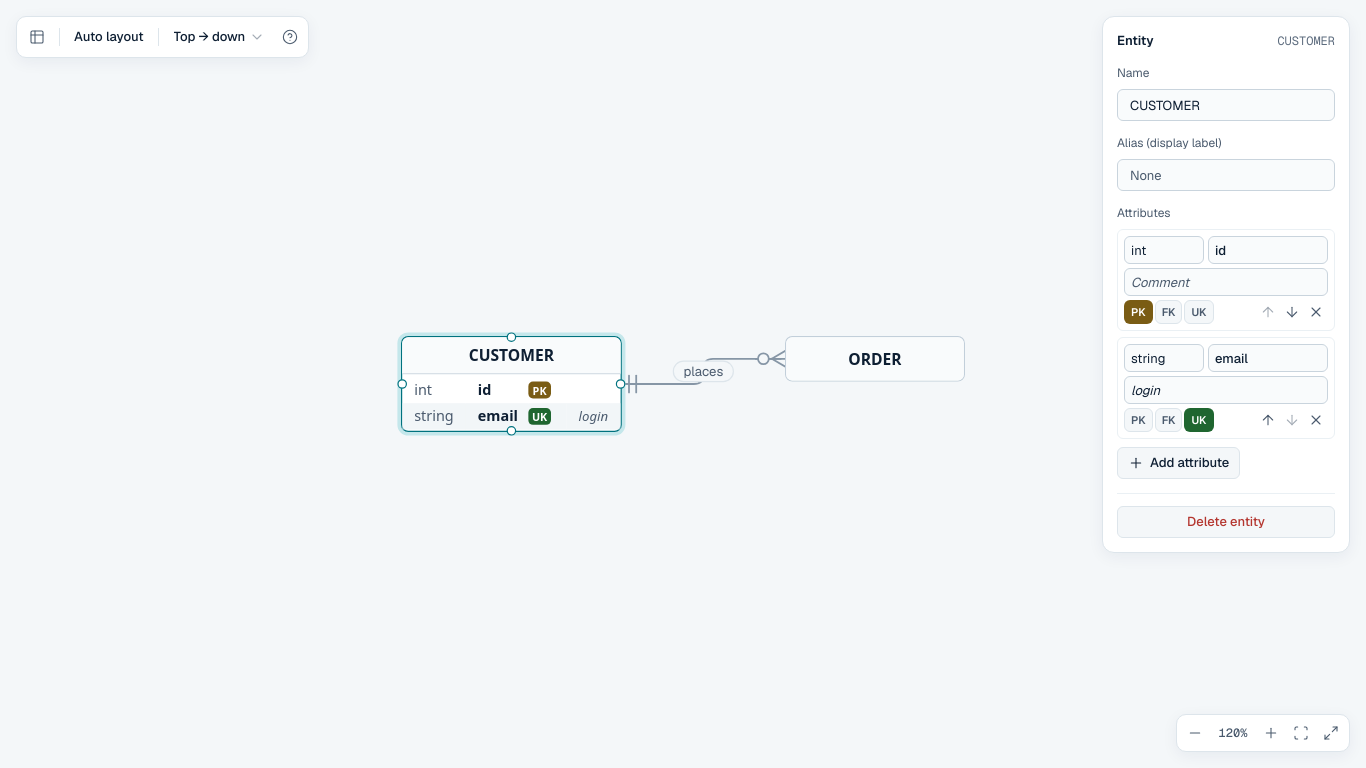
Test case: ErEditor › renames an entity and edits its attributes through the inspector
Expected: the element with test id "er-node-CUSTOMER" is shown, [401, 336, 622, 432]
Expected: the heading "Entity" is shown, [1117, 31, 1154, 51]
Click the button with aria-label "Foreign key".
click(1169, 420)  # box [1155, 408, 1182, 432]
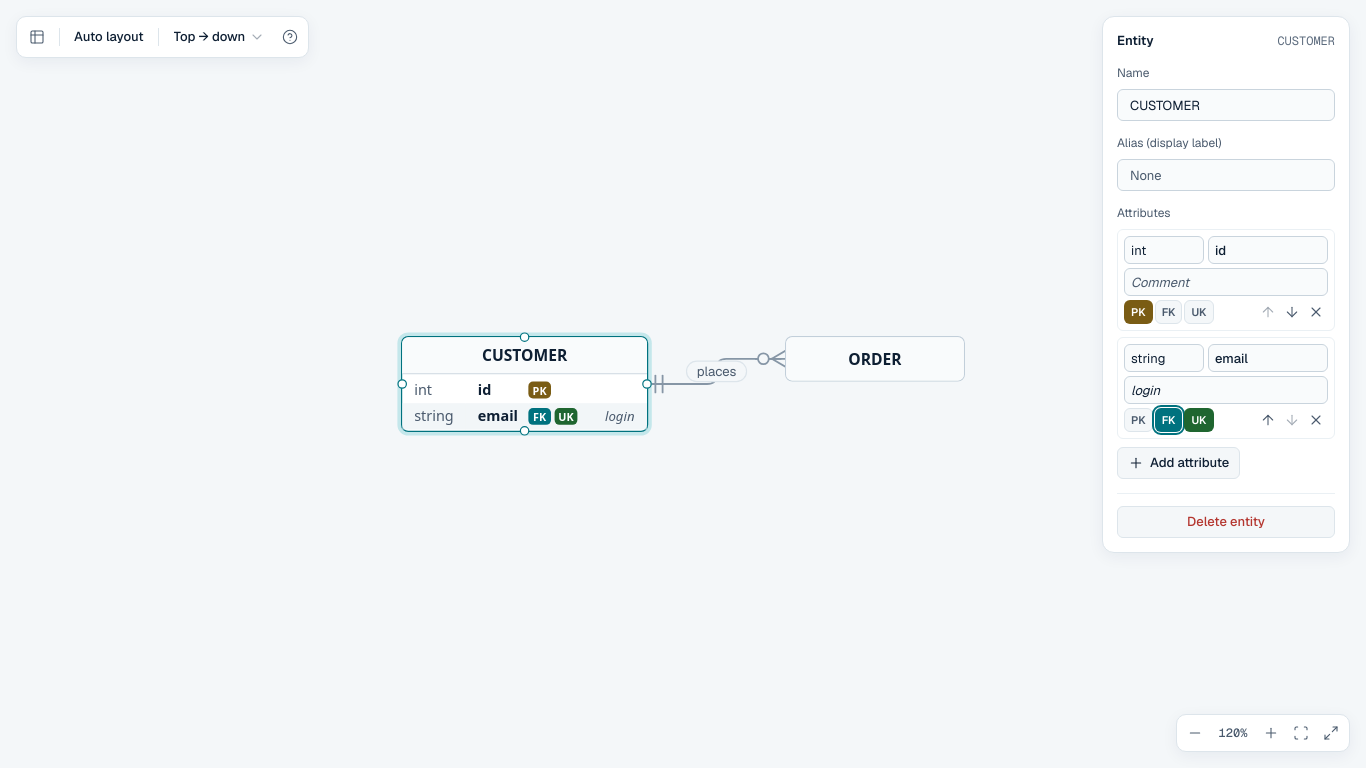
Replace the text in the 2nd field named "Attribute type" with "varchar" at (1164, 358), box [1124, 344, 1204, 372]
Then press Enter
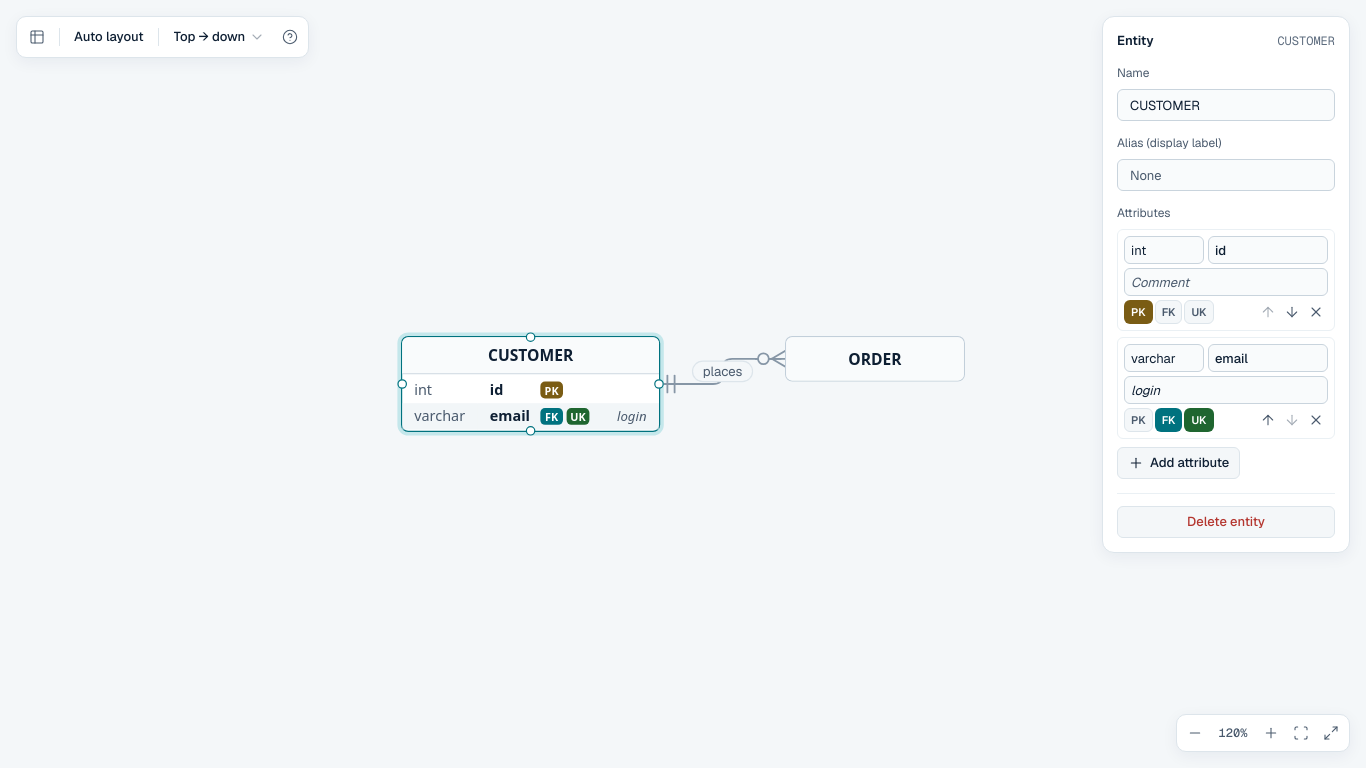
Click the 2nd button named "Move up".
click(1268, 420)  # box [1256, 408, 1280, 432]
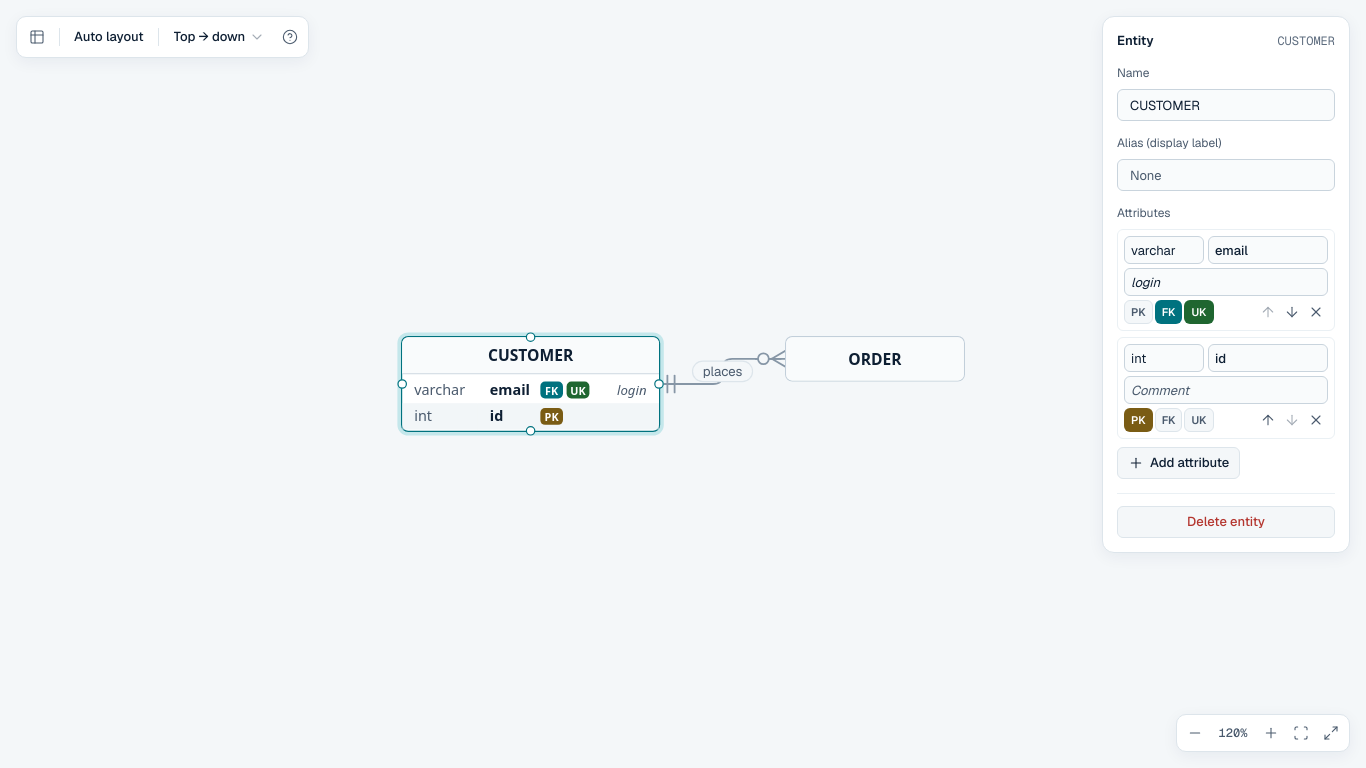
Click the button "Add attribute".
click(1179, 463)  # box [1117, 447, 1240, 479]
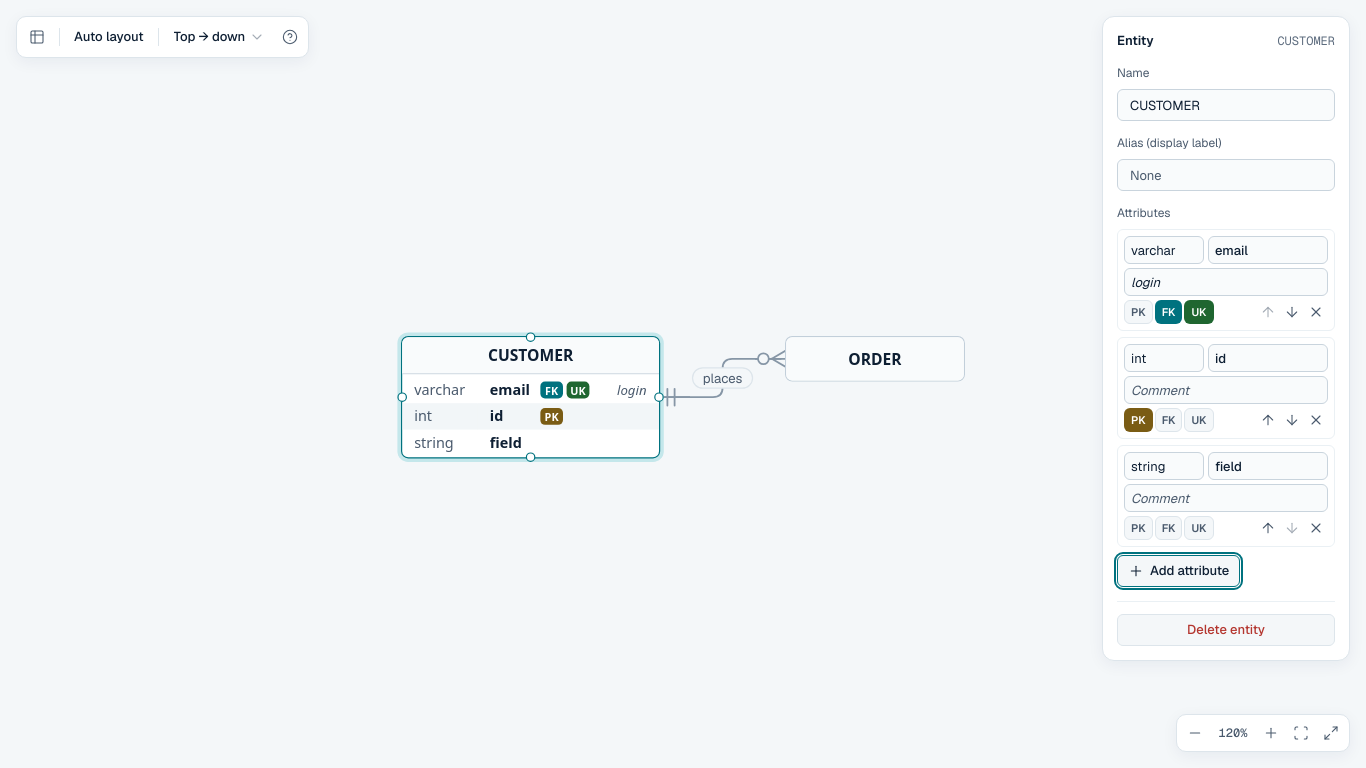
Replace the text in the field labelled "Name" with "CLIENT" at (1226, 105), box [1117, 89, 1335, 121]
Then press Enter
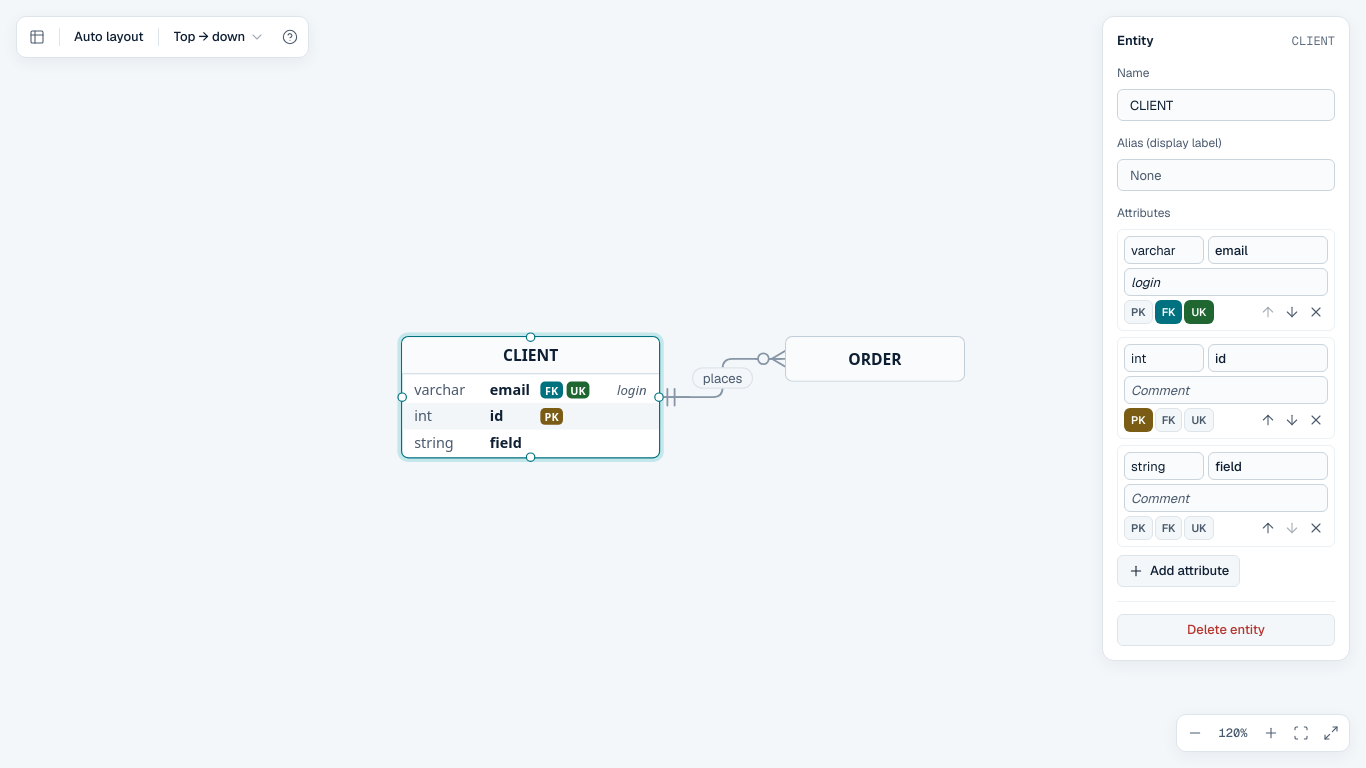
Now the element with test id "er-node-CLIENT" is shown, box [401, 336, 660, 458]
